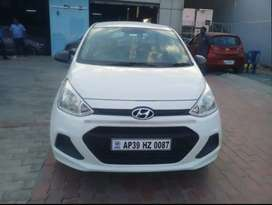AP39HZ0087: (111, 138, 171, 150)
